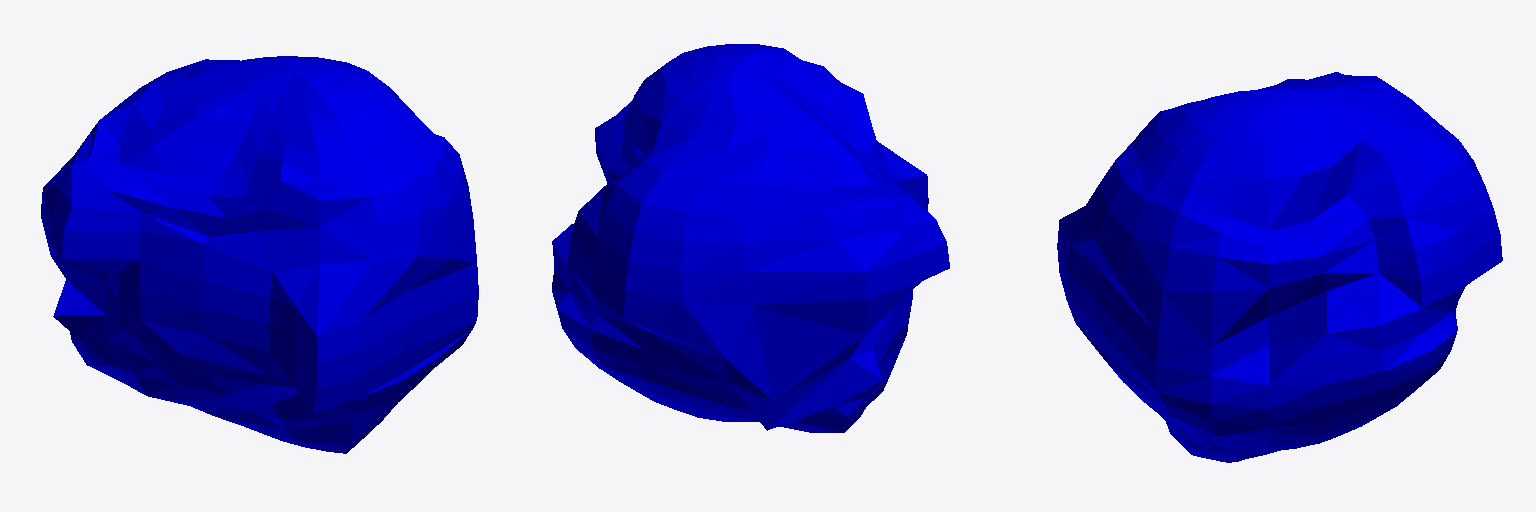
Rendered from meteor_blue.obj.
The picture shows the model from 3 angles: view 1: azimuth 30°, elevation 25°; view 2: azimuth 150°, elevation 25°; view 3: azimuth 270°, elevation 25°; orthographic projection.
Size of the model in its own units: 2.86 by 2.66 by 2.94.